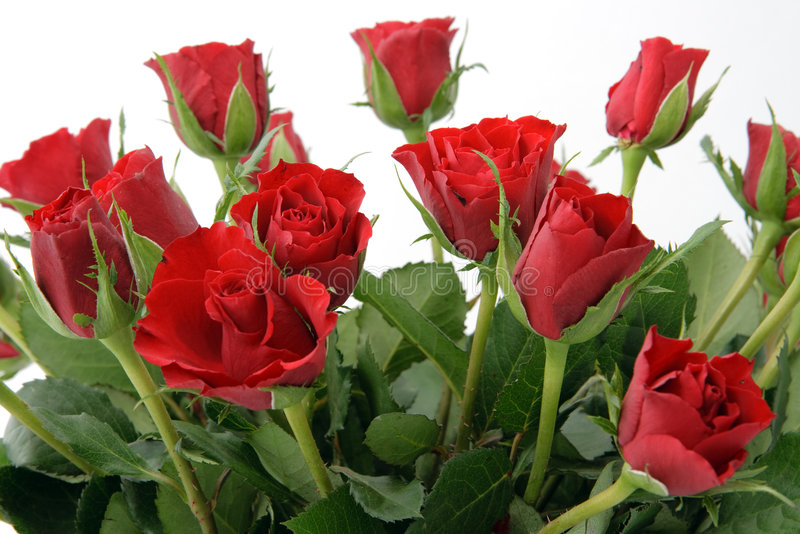RedRose: (142, 214, 343, 399), (501, 168, 627, 316), (244, 166, 375, 298), (336, 22, 487, 124), (150, 52, 283, 167), (640, 350, 751, 486), (425, 141, 553, 251), (40, 188, 127, 338), (81, 157, 208, 250), (614, 38, 712, 144), (29, 134, 154, 187), (747, 121, 800, 241)
